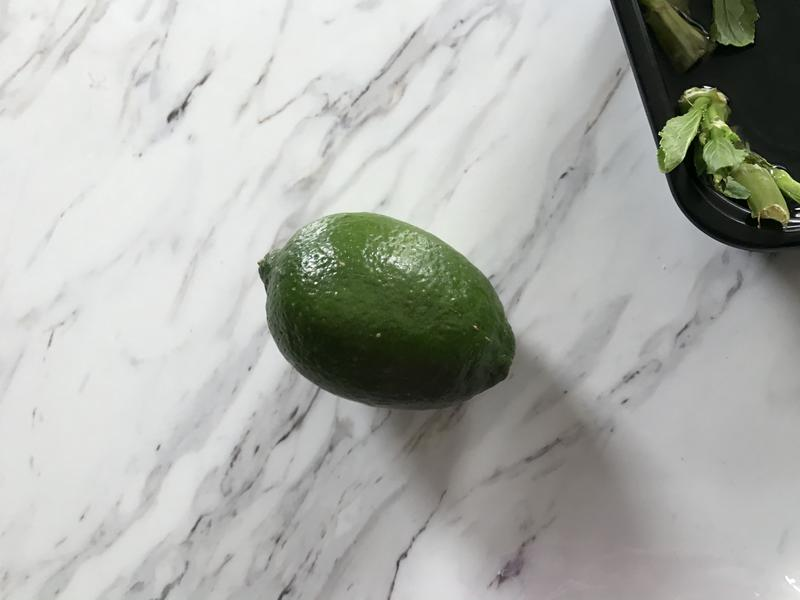lime: (243, 198, 533, 416)
